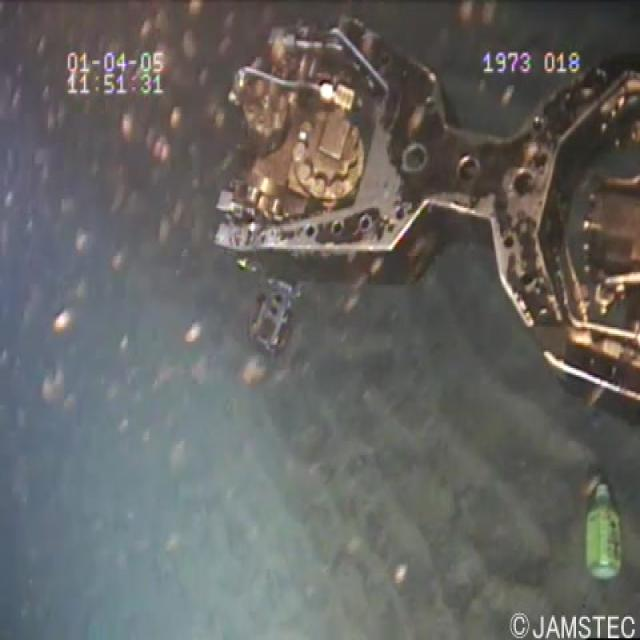plastic: (580, 473, 620, 587)
